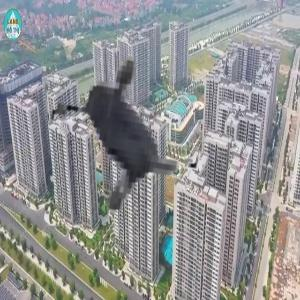drone: (3, 8, 249, 254)
